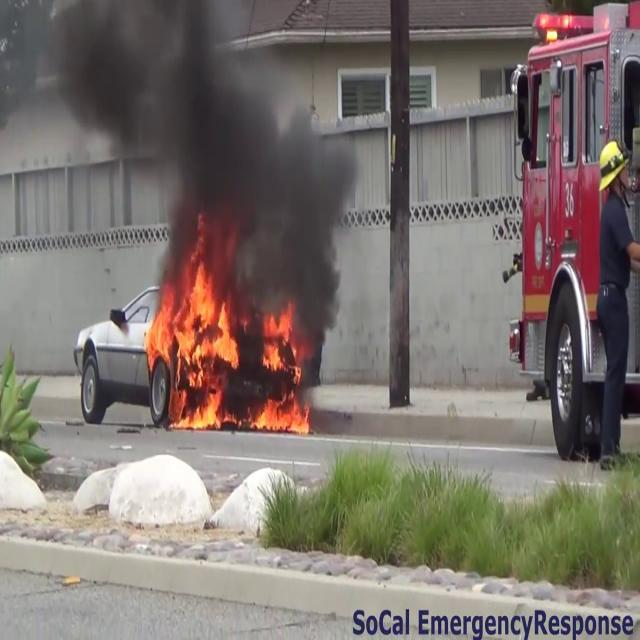Fire: (144, 257, 242, 427), (254, 301, 308, 432)
Smoke: (84, 0, 360, 302)
